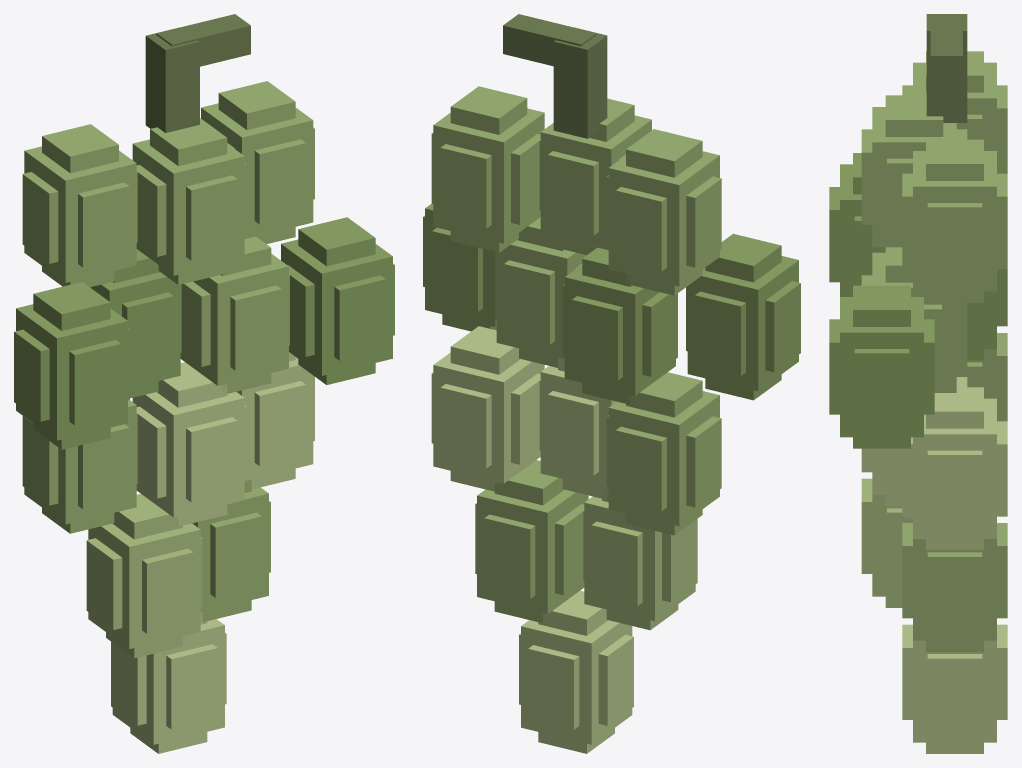
Rendered from GR-01_thompson_seedless.glb.
3 renders of one model, left to right at view 1: azimuth 30°, elevation 25°; view 2: azimuth 150°, elevation 25°; view 3: azimuth 270°, elevation 25°, orthographic. The views are drawn at different scales.
Parts seen in each view (by area): view 1: Thompson Seedless · original workbench cubes; view 2: Thompson Seedless · original workbench cubes; view 3: Thompson Seedless · original workbench cubes.
Part boxes in pixels (x1,y1,x2,y2): Thompson Seedless · original workbench cubes: (14,14,394,753); Thompson Seedless · original workbench cubes: (423,14,800,753); Thompson Seedless · original workbench cubes: (829,14,1007,753).
Size of the model in its own units: 0.1032 by 0.1961 by 0.044.
